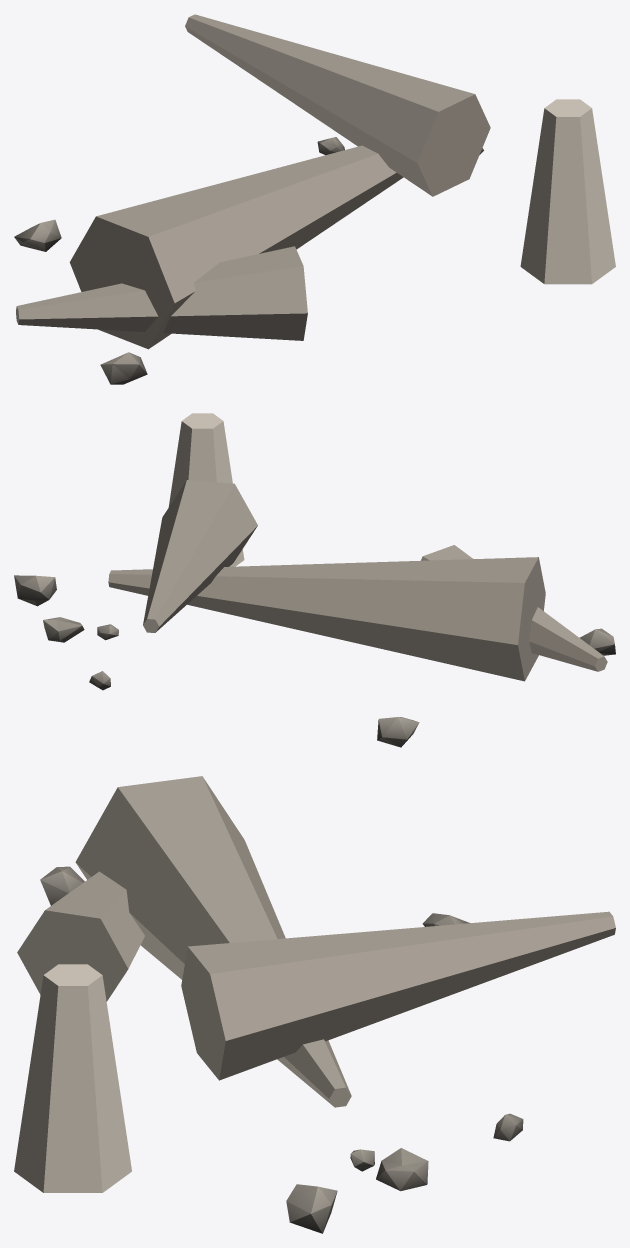
Rendered from SM_VKI_Overlay_Debris_Stalactite.fbx.
3 views of the same model, one above another, from view 1: azimuth 30°, elevation 25°; view 2: azimuth 150°, elevation 25°; view 3: azimuth 270°, elevation 25° (orthographic). The views are drawn at different scales.
Visible parts, largest first — view 1: SM_VKI_Overlay_Debris_Stalactite.001; view 2: SM_VKI_Overlay_Debris_Stalactite.001; view 3: SM_VKI_Overlay_Debris_Stalactite.001.
Part boxes in pixels (left/top/right/bottom): SM_VKI_Overlay_Debris_Stalactite.001: left=14, top=14, right=615, bottom=384; SM_VKI_Overlay_Debris_Stalactite.001: left=14, top=413, right=615, bottom=747; SM_VKI_Overlay_Debris_Stalactite.001: left=14, top=776, right=615, bottom=1233.
Bounding box in the file's own units: 0.9064 × 0.225 × 0.6114.
